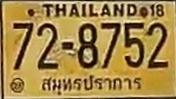2: (36, 23, 57, 68), (146, 22, 166, 67)
5: (123, 21, 143, 67)
7: (12, 22, 33, 69), (100, 22, 120, 68)
8: (77, 22, 97, 67)
SPK: (39, 73, 145, 96)
